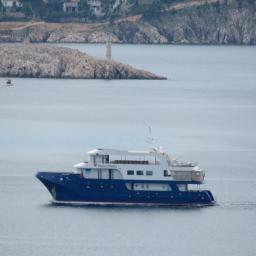cruises: (34, 142, 220, 212)
